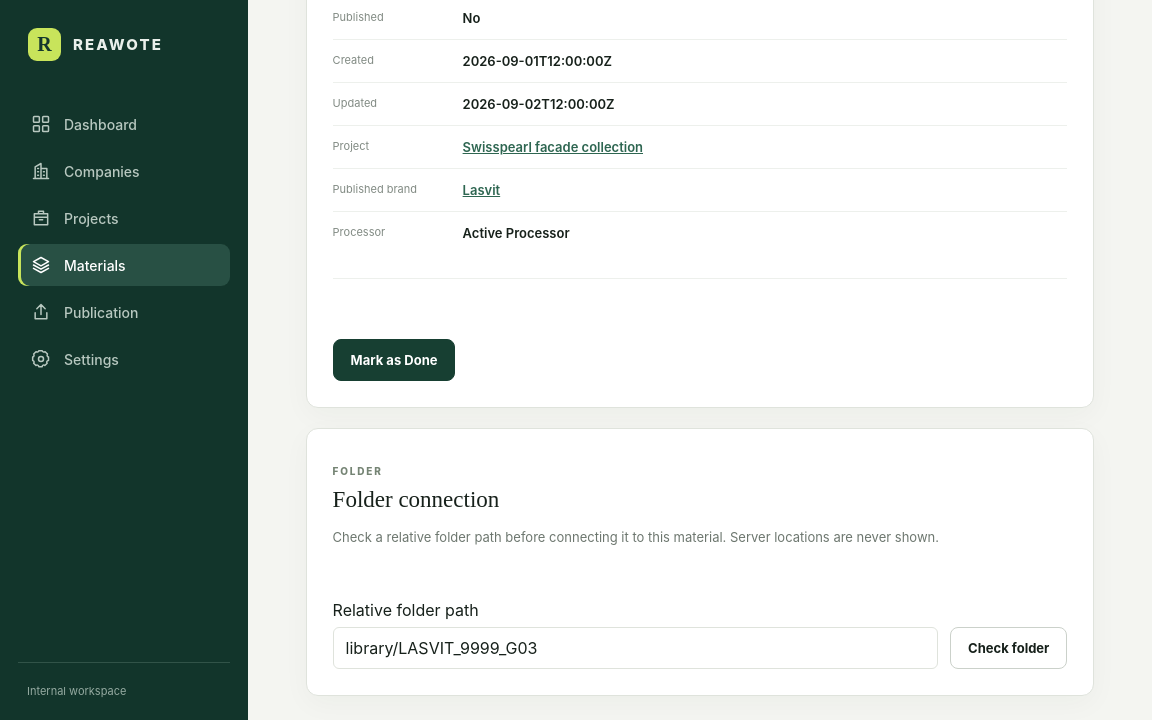
material folder and Done UI › marks Done with VALID metadata and refreshes all related data
The image size is (1152, 720).
(page scrolled)
Click the button "Mark as Done" at (394, 360), box [333,339,456,381]
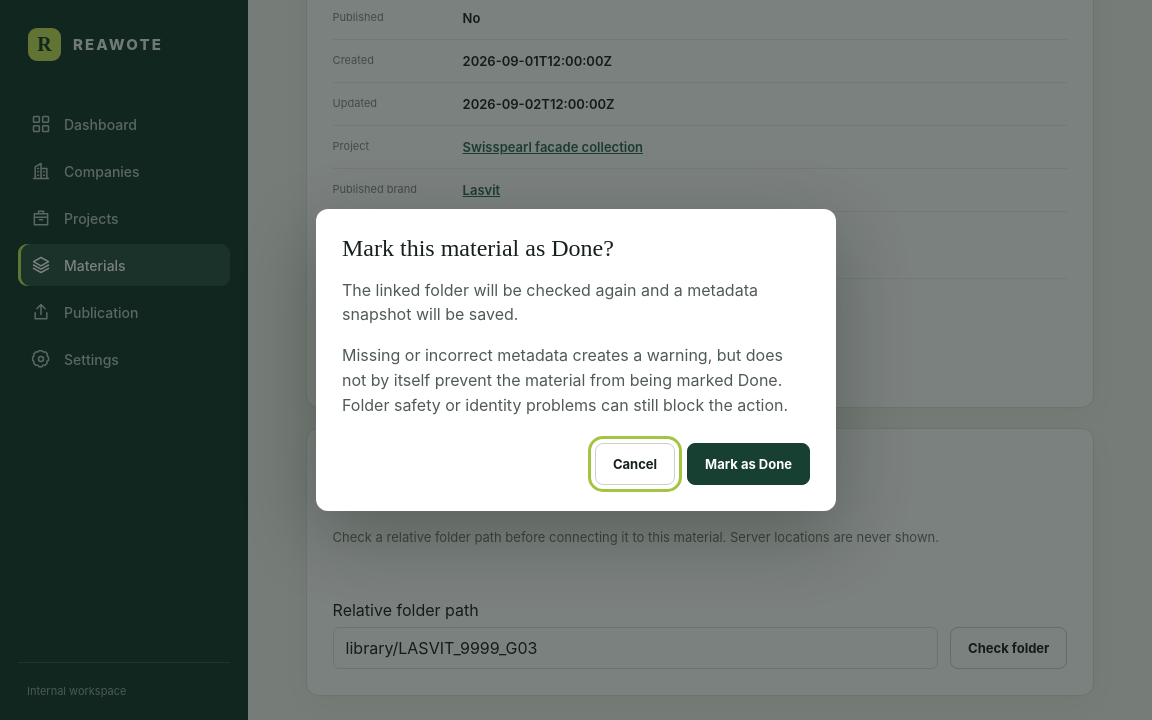
Check: the dialog "Mark this material as Done?" shows "does not by itself prevent", box [342,345,788,415]
Click the button "Mark as Done" below "Mark this material as Done?" at (749, 464), box [687,444,810,486]
(page scrolled)
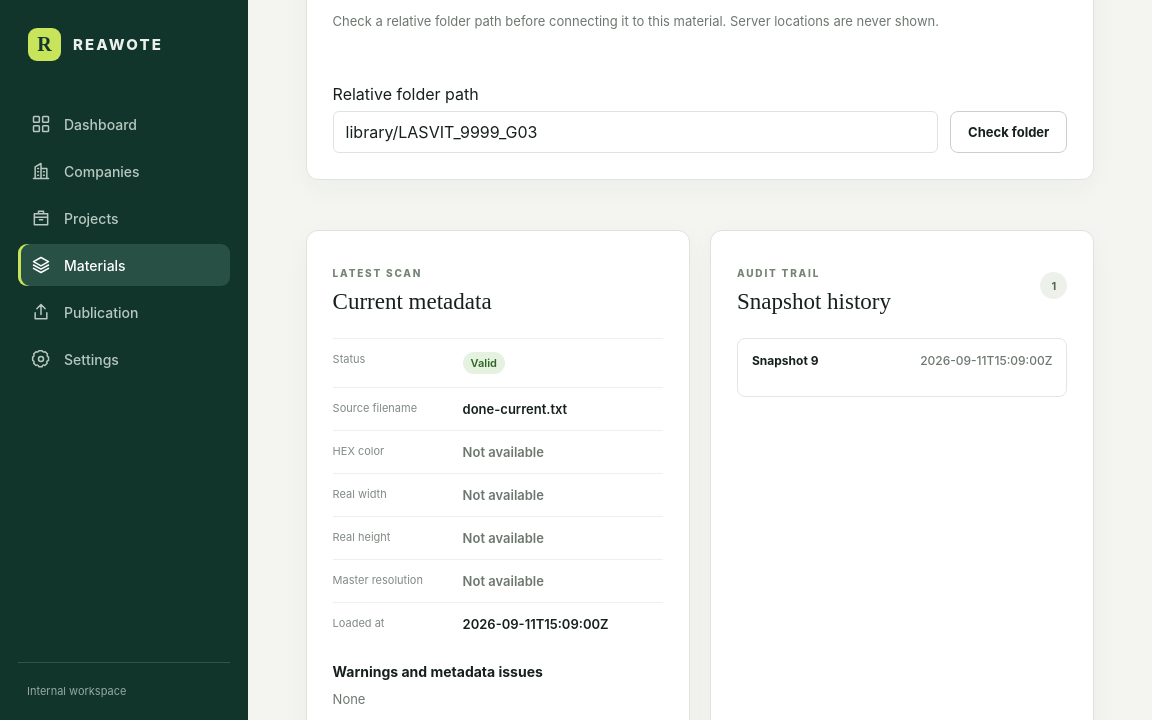
Check: the button "Mark as Done" is gone
